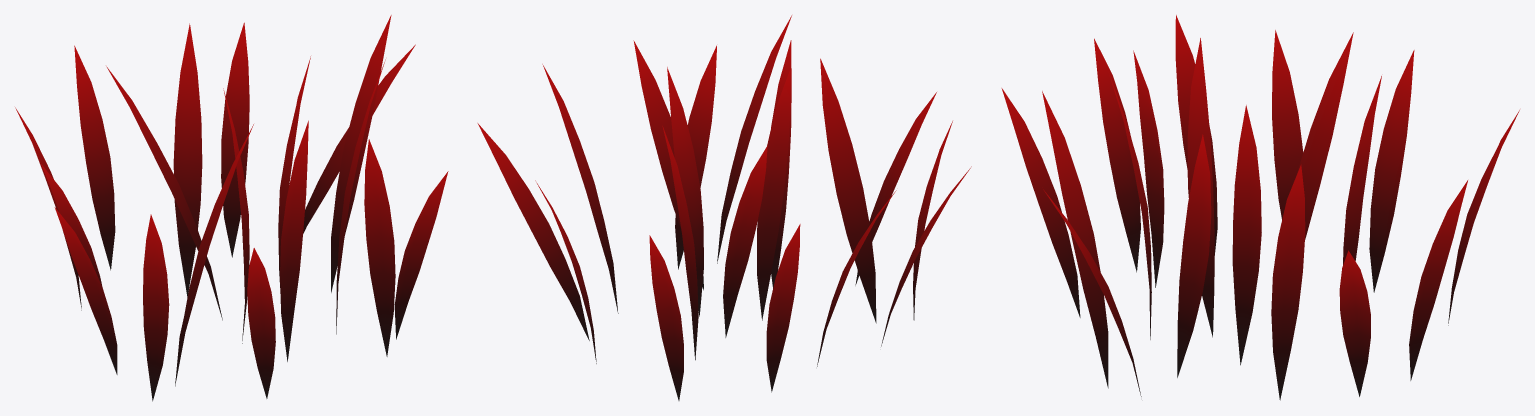
The model's file is S_Grass_1.fbx.
The picture shows the model from 3 angles, left to right: view 1: azimuth 30°, elevation 25°; view 2: azimuth 150°, elevation 25°; view 3: azimuth 270°, elevation 25°; orthographic projection. The views are drawn at different scales.
Parts seen in each view (by area): view 1: grass; view 2: grass; view 3: grass.
Part boxes in pixels (x1,y1,x2,y2): grass: [15, 15, 448, 401]; grass: [477, 15, 971, 400]; grass: [1001, 15, 1519, 400].
Size of the model in its own units: 209 by 121 by 198.
